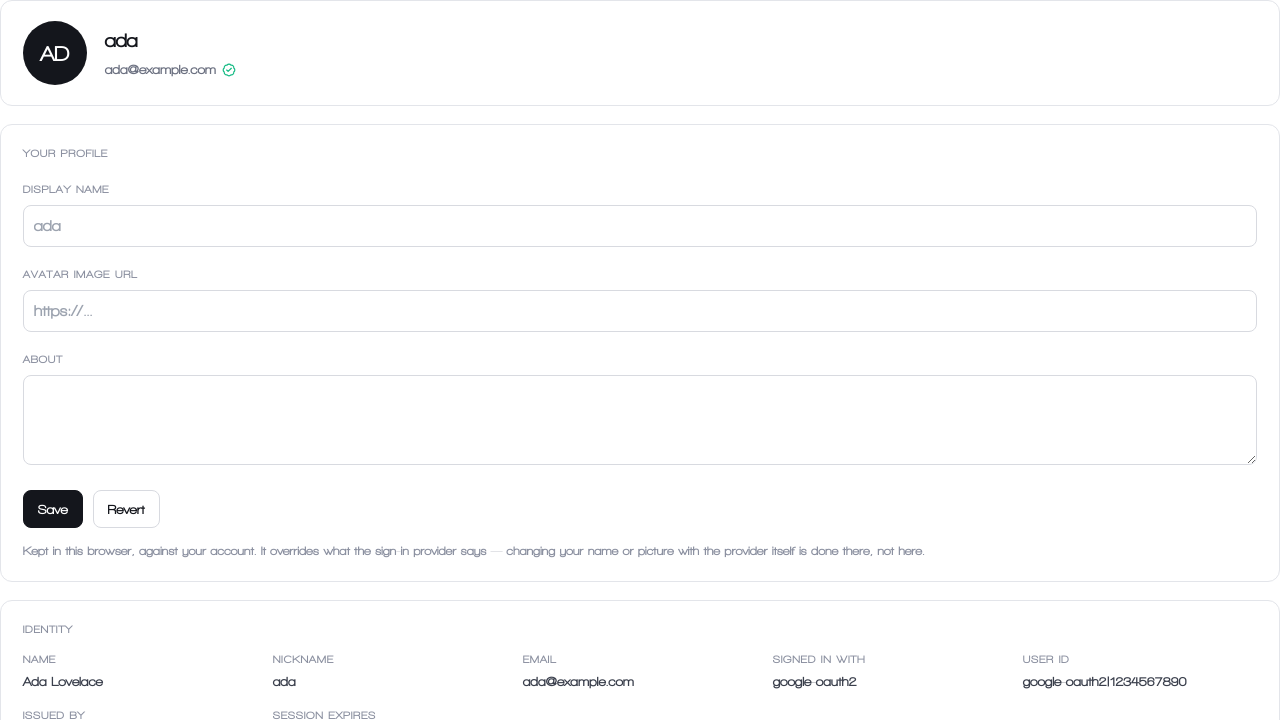
AccountPage › stores an edited profile against the user and overrides the token's name
Type "Ada L." into the field labelled "Display name" at x=640, y=226, box x1=23 y1=204 x2=1257 y2=246
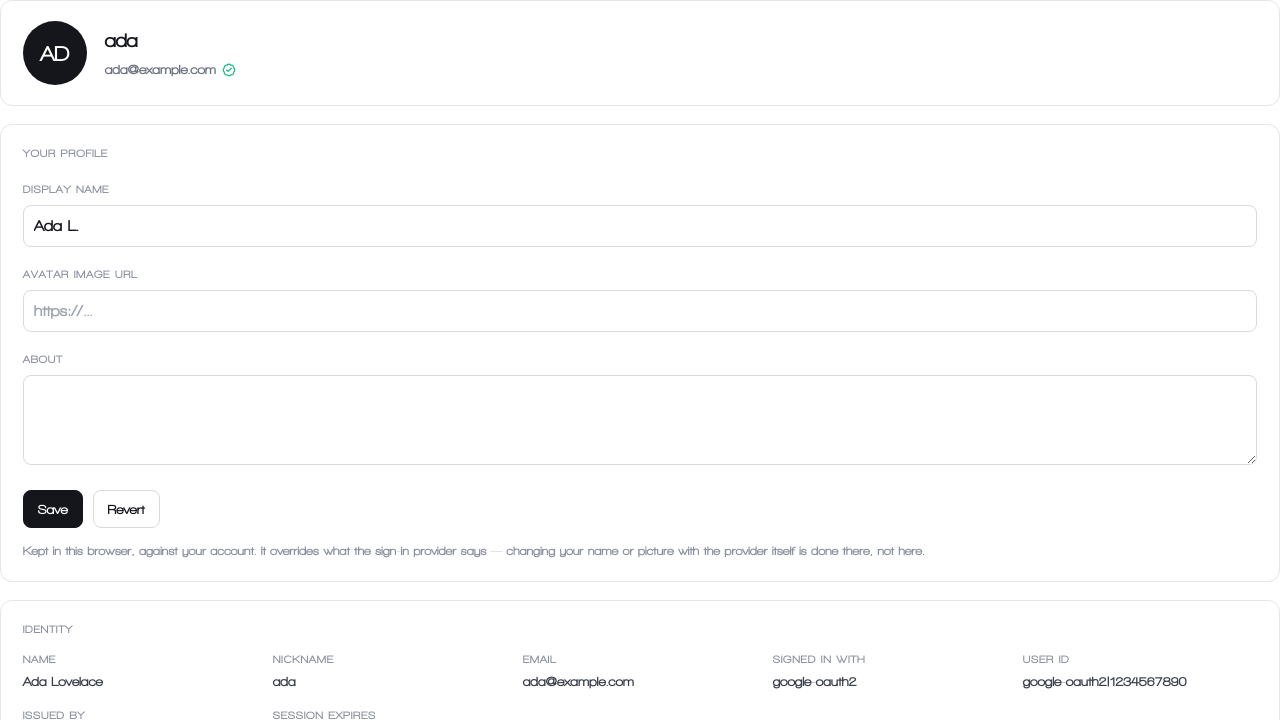
Click the button "Save" at x=53, y=509, box x1=23 y1=490 x2=83 y2=528
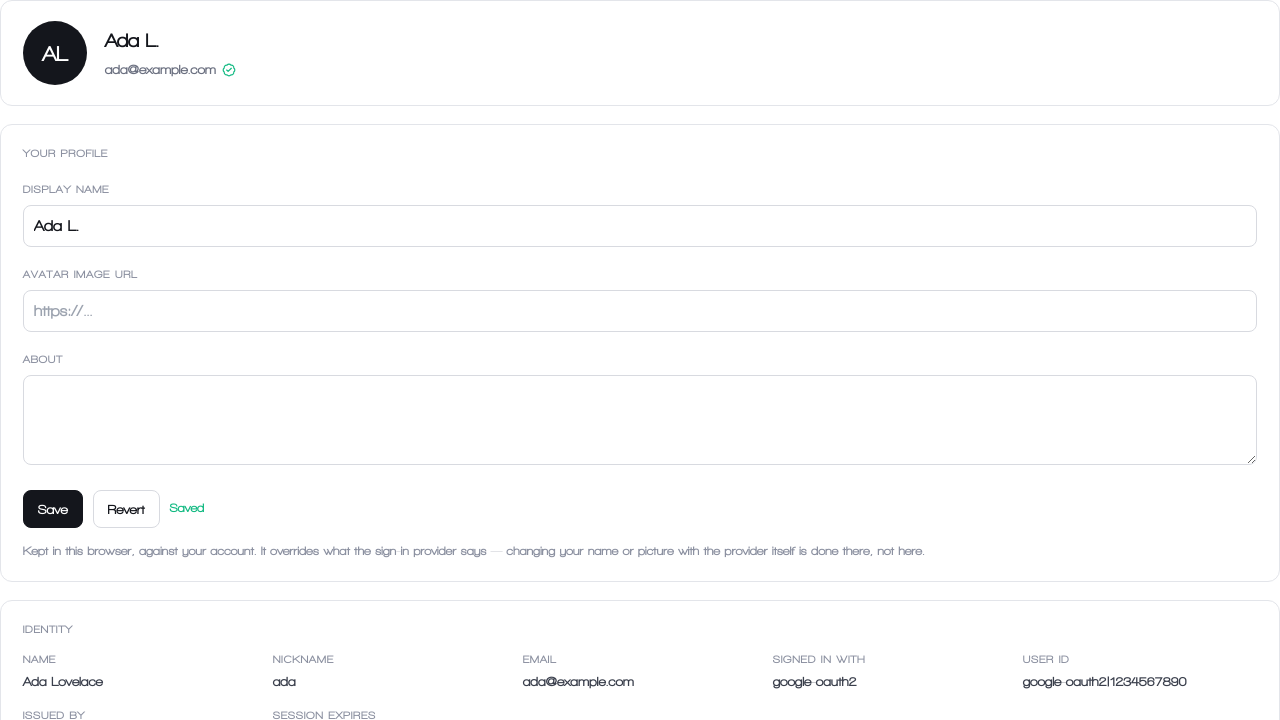
Expected: the text "Ada L." is shown, x1=105 y1=30 x2=159 y2=51
